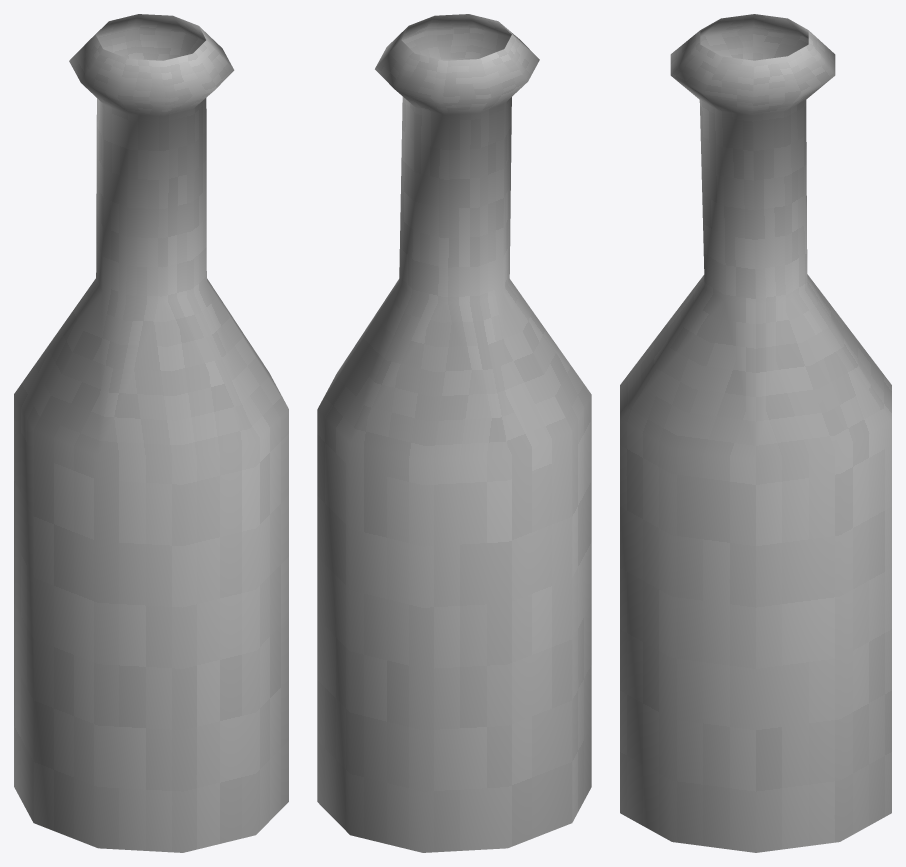
File: bottle.obj
3 views of the same model, side by side, from view 1: azimuth 30°, elevation 25°; view 2: azimuth 150°, elevation 25°; view 3: azimuth 270°, elevation 25° (orthographic).
Parts seen in each view (by area): view 1: Cylinder05; view 2: Cylinder05; view 3: Cylinder05.
Boxes of the visible parts, x1,y1,x2,y2 form: Cylinder05: (14, 14, 288, 852); Cylinder05: (317, 14, 591, 852); Cylinder05: (620, 14, 891, 852).
Bounding box in the file's own units: 44.63 × 137 × 44.57.
